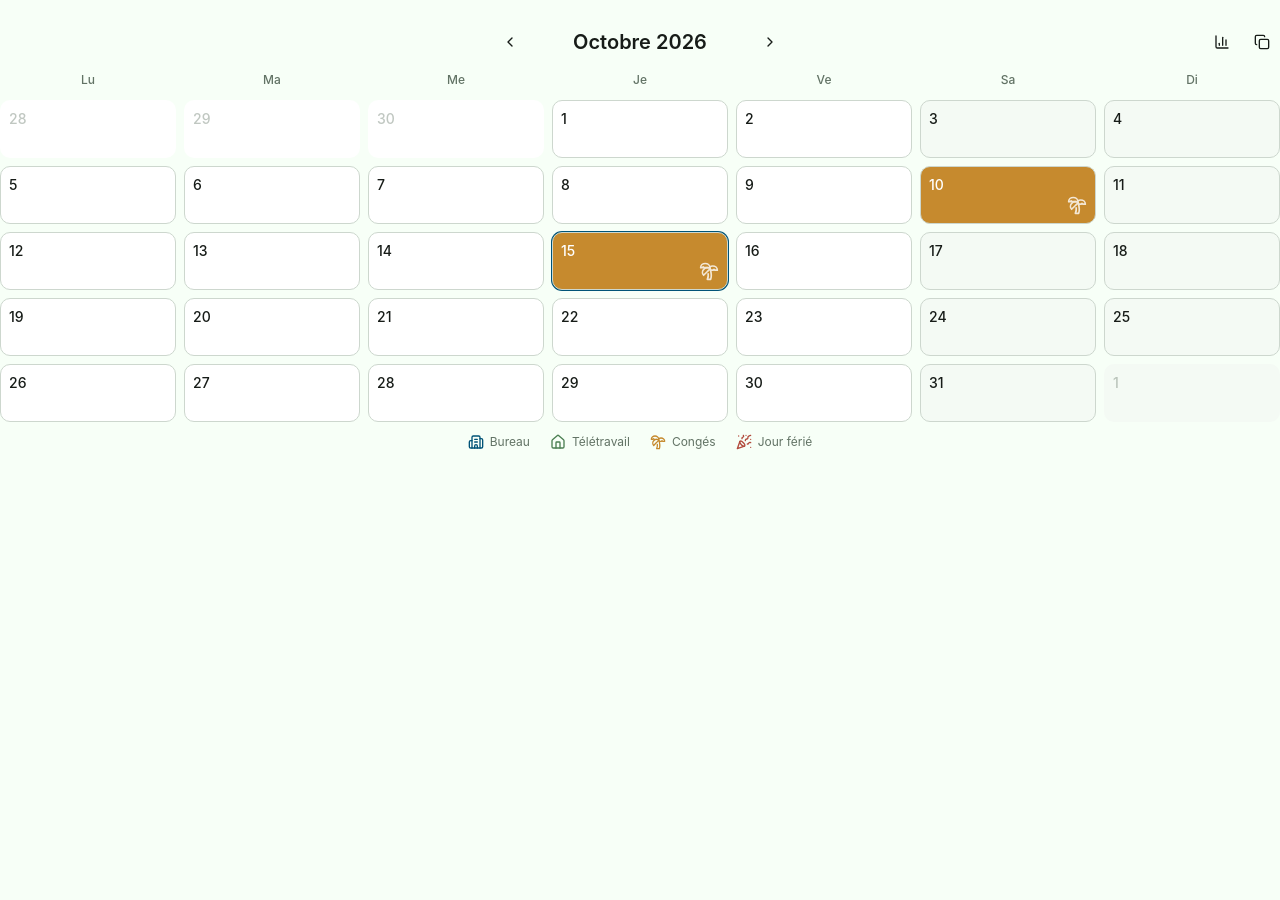
Test: PresenceCalendar › leaves the day unchanged and re-asks when the overwrite is cancelled
Step 1. Click the button named "Copier un jour" → (1262, 42), box top-left (1244, 24), bottom-right (1279, 60)
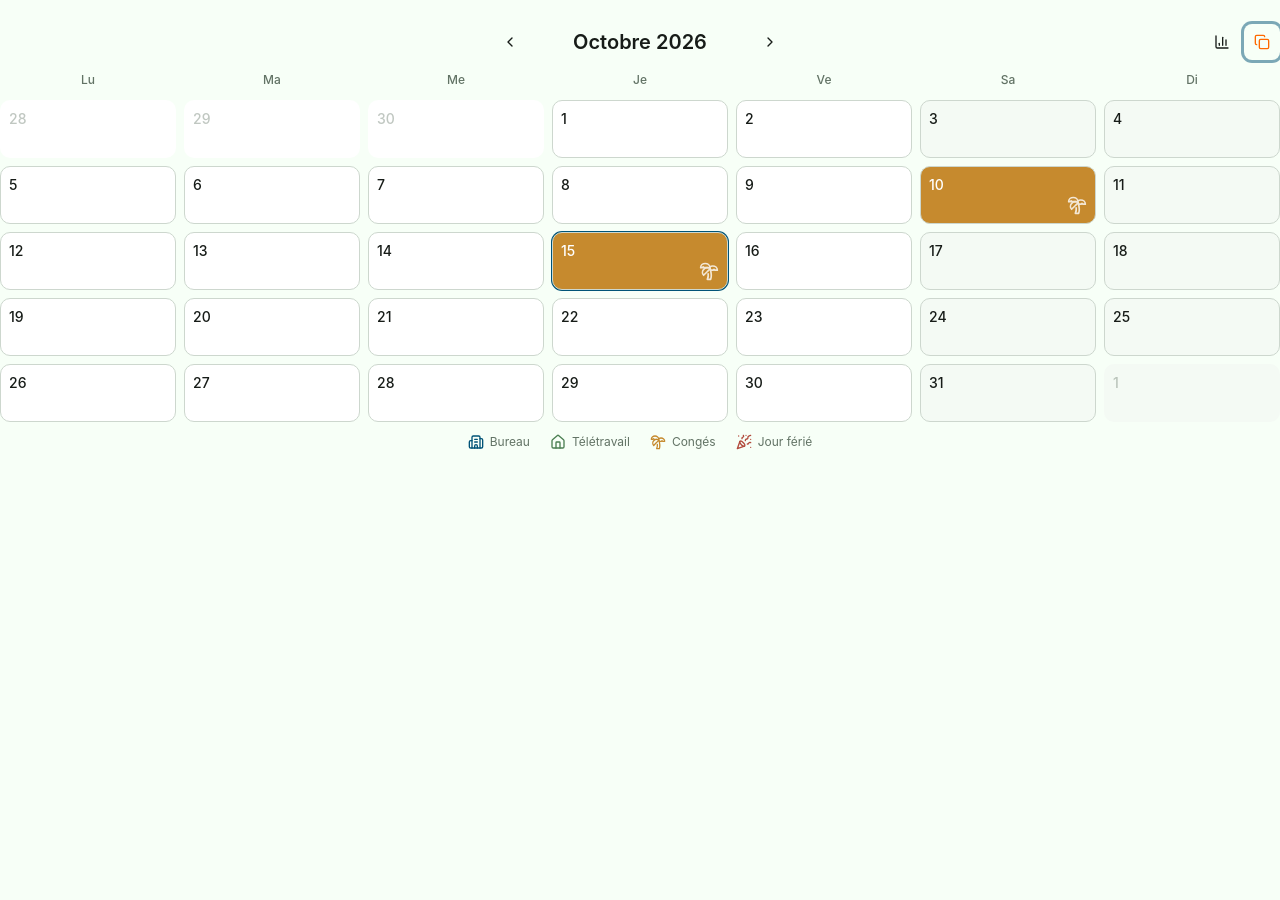
Step 2. Click the button "15" → (640, 261), box top-left (552, 232), bottom-right (728, 290)
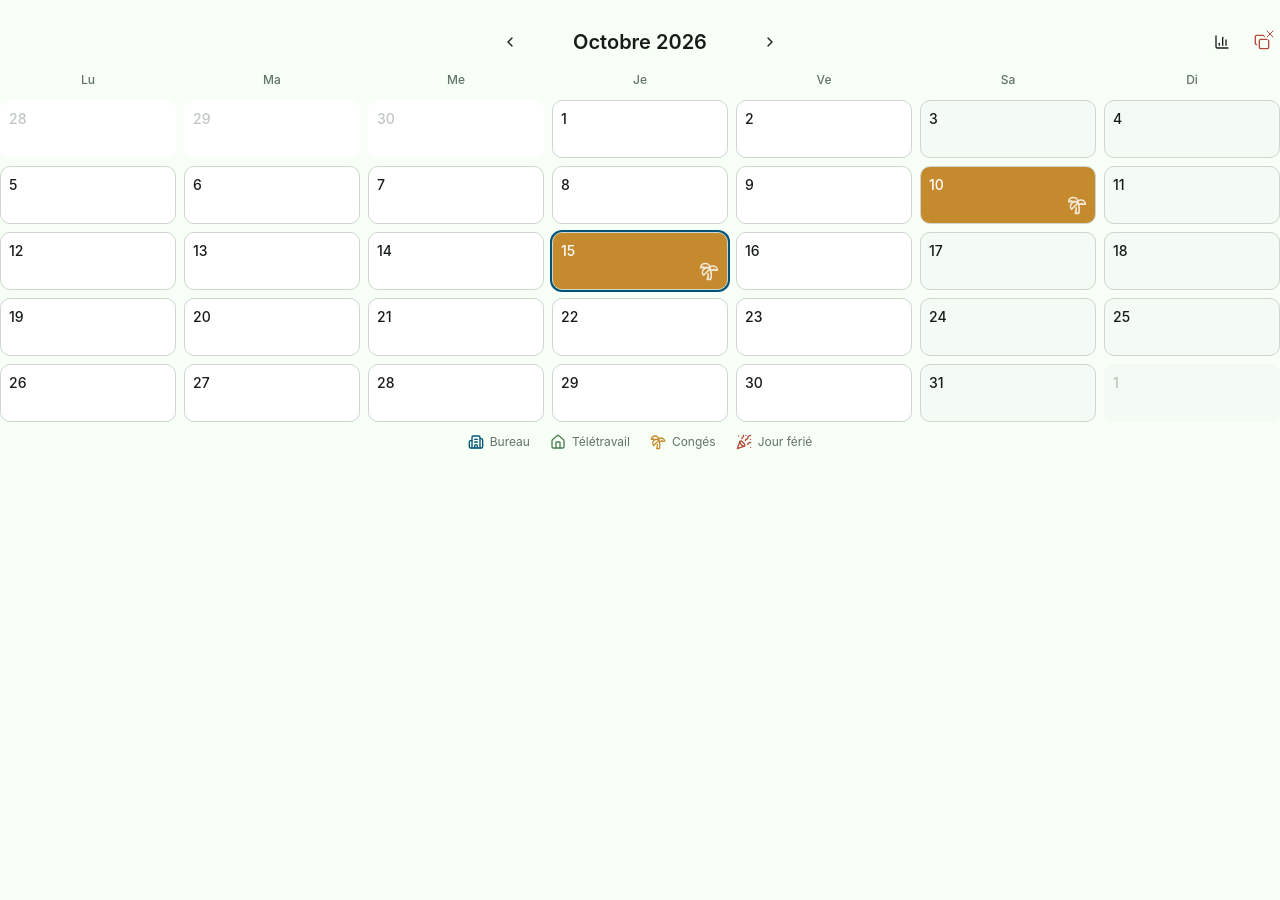
Result: the button named "remplir" is shown at top-left (1244, 24), bottom-right (1279, 60)
Cancelling the first overwrite persists nothing.
Step 3. Click the button "10" → (1008, 195), box top-left (920, 166), bottom-right (1096, 224)
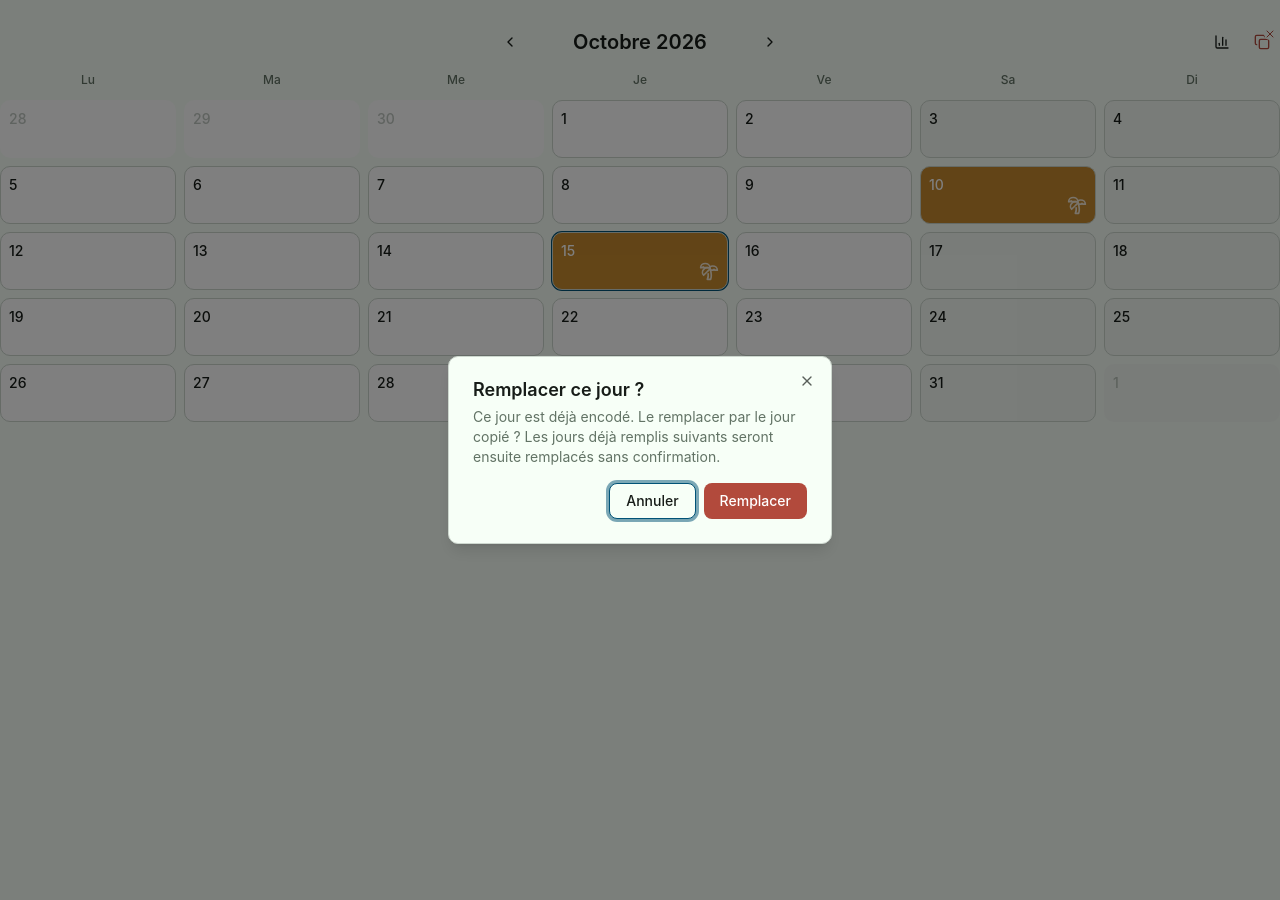
Step 4. Click the button "Annuler" → (652, 501), box top-left (609, 483), bottom-right (696, 519)
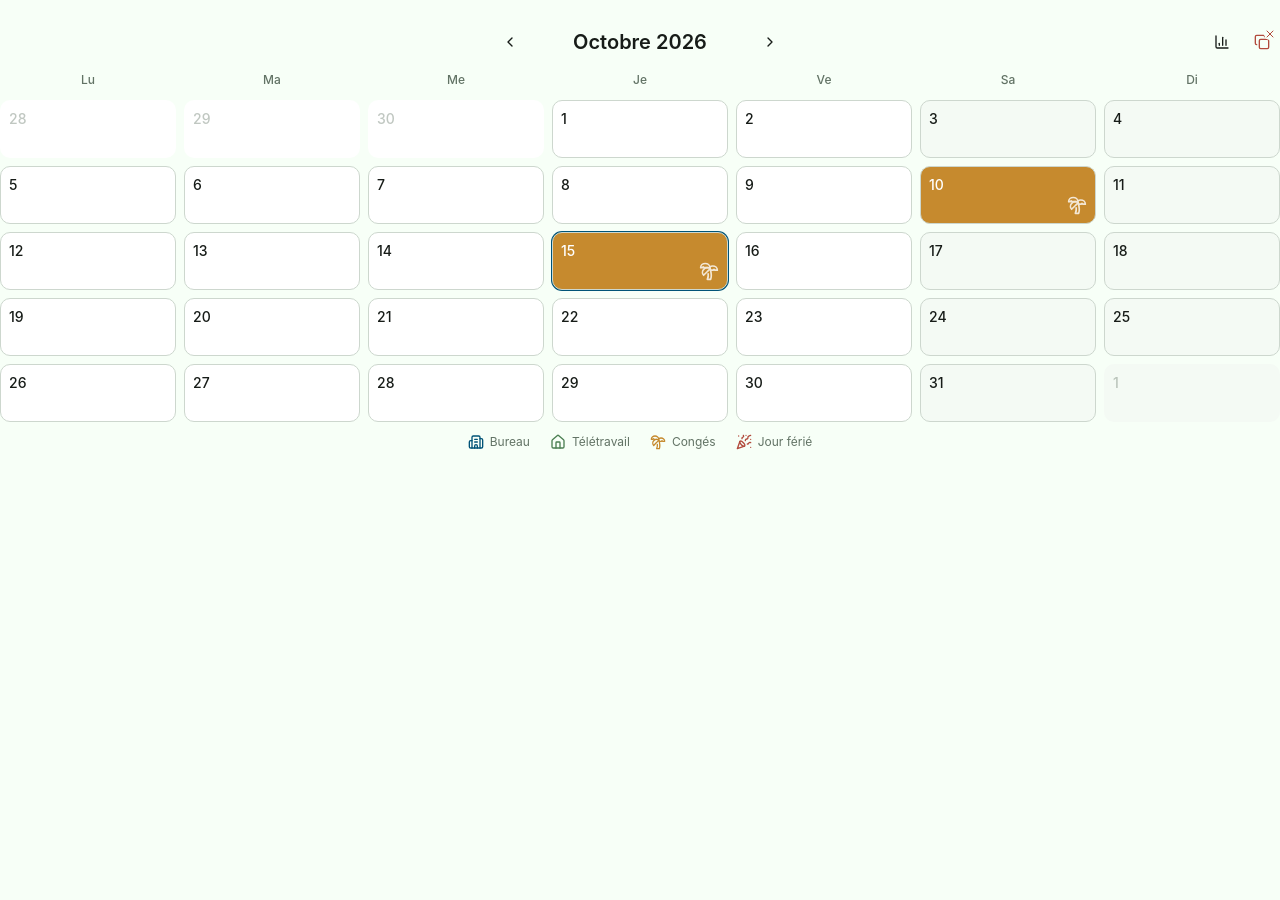
Approval was not granted, so the next filled day prompts again.
Step 5. Click the button "10" → (1008, 195), box top-left (920, 166), bottom-right (1096, 224)
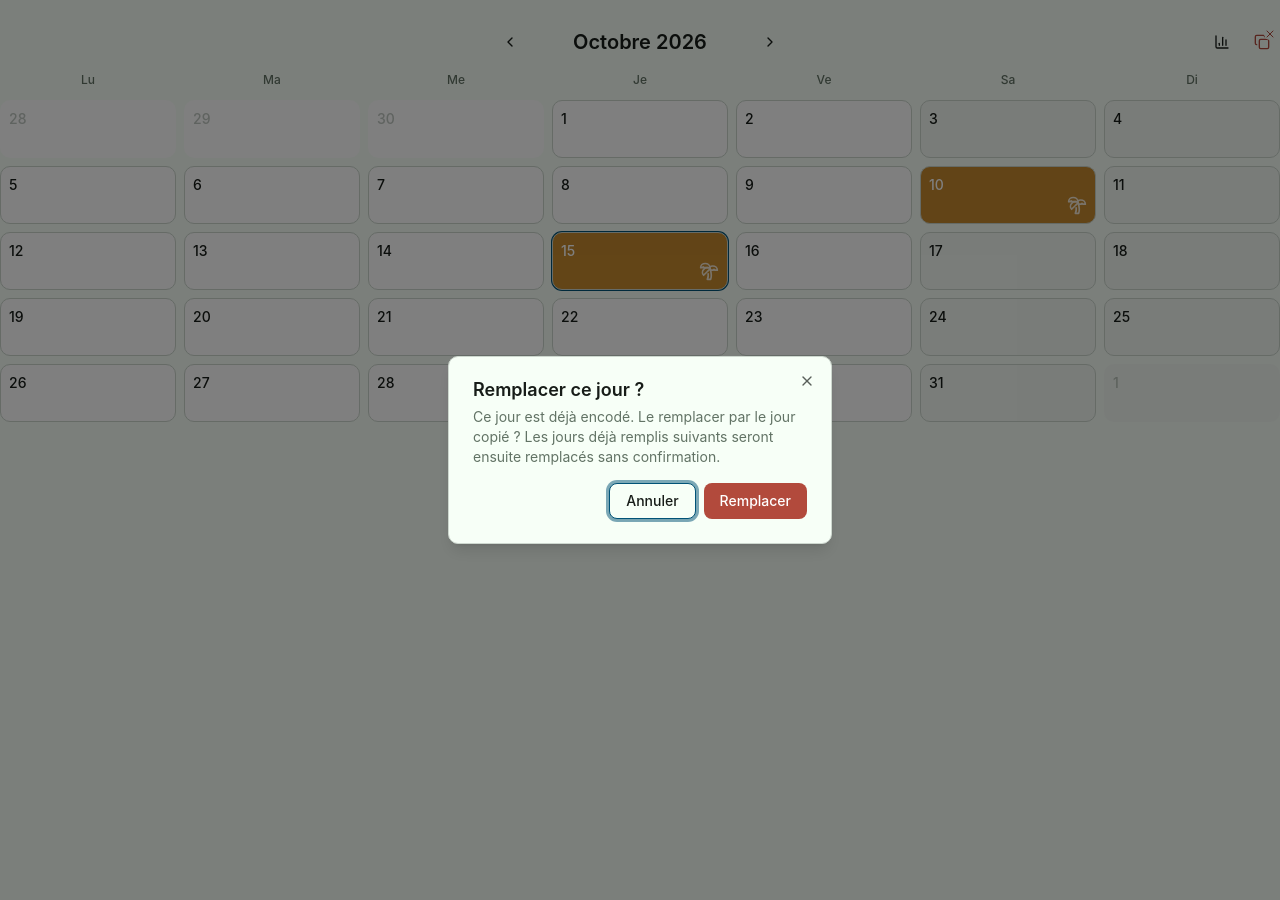
Result: the heading "Remplacer ce jour ?" is shown at top-left (473, 379), bottom-right (644, 400)
